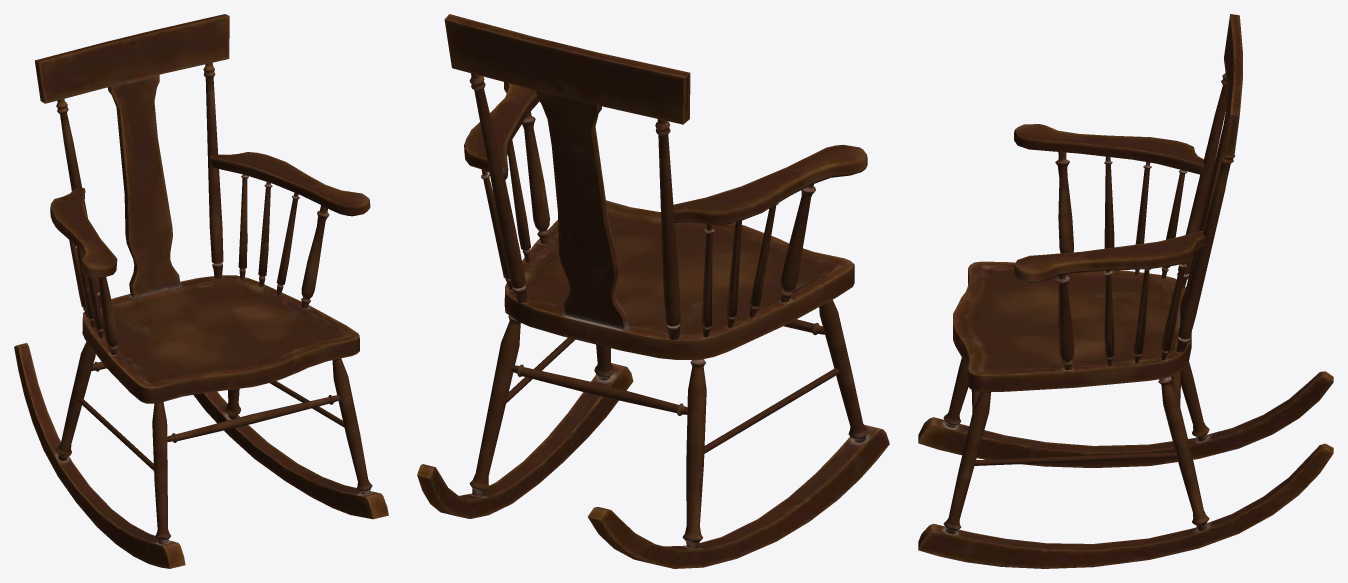
Rendered from Rockingchair_01.glb.
The picture shows the model from 3 angles, left to right: view 1: azimuth 30°, elevation 25°; view 2: azimuth 150°, elevation 25°; view 3: azimuth 270°, elevation 25°; orthographic projection. The views are drawn at different scales.
Parts seen in each view (by area): view 1: Rockingchair_01; view 2: Rockingchair_01; view 3: Rockingchair_01.
Boxes of the visible parts, bbox=[...] form: Rockingchair_01: bbox=[14, 14, 388, 568]; Rockingchair_01: bbox=[417, 14, 889, 568]; Rockingchair_01: bbox=[918, 14, 1333, 568].
Size of the model in its own units: 0.7081 by 0.9949 by 0.8335.
Materials: 1 (1 with a texture image).
